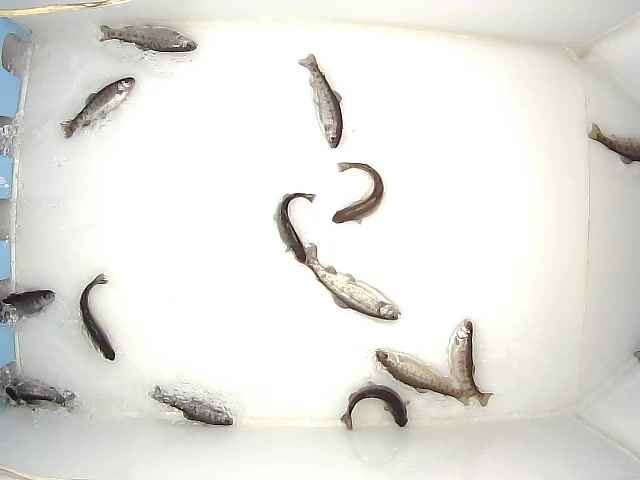fish: (304, 243, 404, 323), (369, 345, 474, 407), (59, 76, 136, 139), (296, 53, 344, 151), (446, 317, 495, 410), (329, 160, 389, 228), (340, 378, 415, 431), (151, 383, 236, 429), (96, 19, 201, 56), (78, 273, 119, 362), (272, 190, 318, 264)
